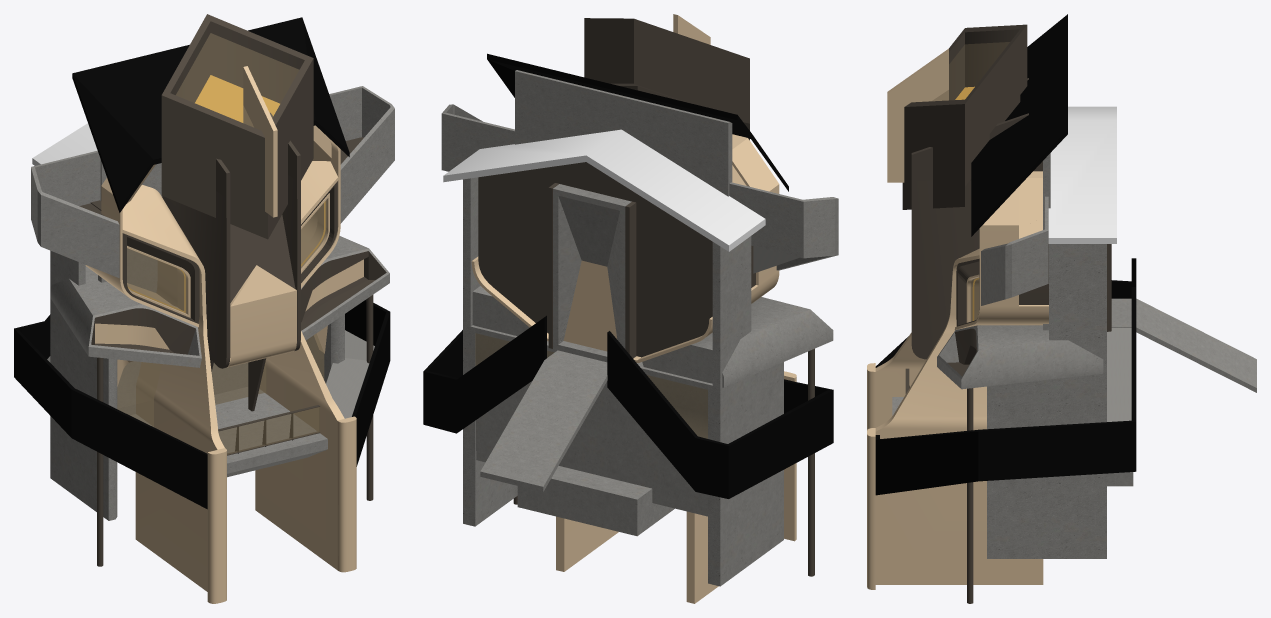
Rendered from hanoman.glb.
3 views of the same model, side by side, from view 1: azimuth 30°, elevation 25°; view 2: azimuth 150°, elevation 25°; view 3: azimuth 270°, elevation 25° (orthographic). The views are drawn at different scales.
Parts seen in each view (by area): view 1: Group001, Line003, Shape001, Line008, Line001, Box002, Box003, Line005, Line007, Line009; view 2: Group001, Line008, Box002, Box004, Shape001, Line001, Box003, Line003, Line005, Line007; view 3: Group001, Line003, Line008, Shape001, Line001, Line005, Box003.
Part boxes in pixels (box(x1,y1,x2,y2)): Group001: box(32, 17, 389, 566); Line003: box(122, 161, 356, 603); Shape001: box(161, 14, 313, 239); Line008: box(14, 299, 390, 509); Line001: box(31, 86, 394, 278); Box002: box(227, 215, 296, 367); Box003: box(214, 387, 327, 477); Line005: box(85, 125, 340, 327); Line007: box(117, 333, 324, 426); Line009: box(210, 358, 266, 411); Group001: box(443, 14, 833, 586); Line008: box(423, 315, 833, 498); Box002: box(553, 184, 631, 362); Box004: box(476, 333, 707, 516); Shape001: box(584, 18, 749, 140); Line001: box(441, 104, 838, 270); Box003: box(517, 466, 674, 536); Line003: box(556, 371, 796, 603); Line005: box(471, 134, 779, 363); Line007: box(475, 333, 707, 438); Group001: box(887, 14, 1256, 603); Line003: box(867, 248, 1043, 589); Line008: box(875, 258, 1136, 495); Shape001: box(902, 24, 1027, 209); Line001: box(981, 196, 1048, 305); Line005: box(954, 187, 1048, 329); Box003: box(892, 397, 1133, 486).
Size of the model in its own units: 13.78 by 19.17 by 12.82.
Materials: 9 (1 with a texture image).
